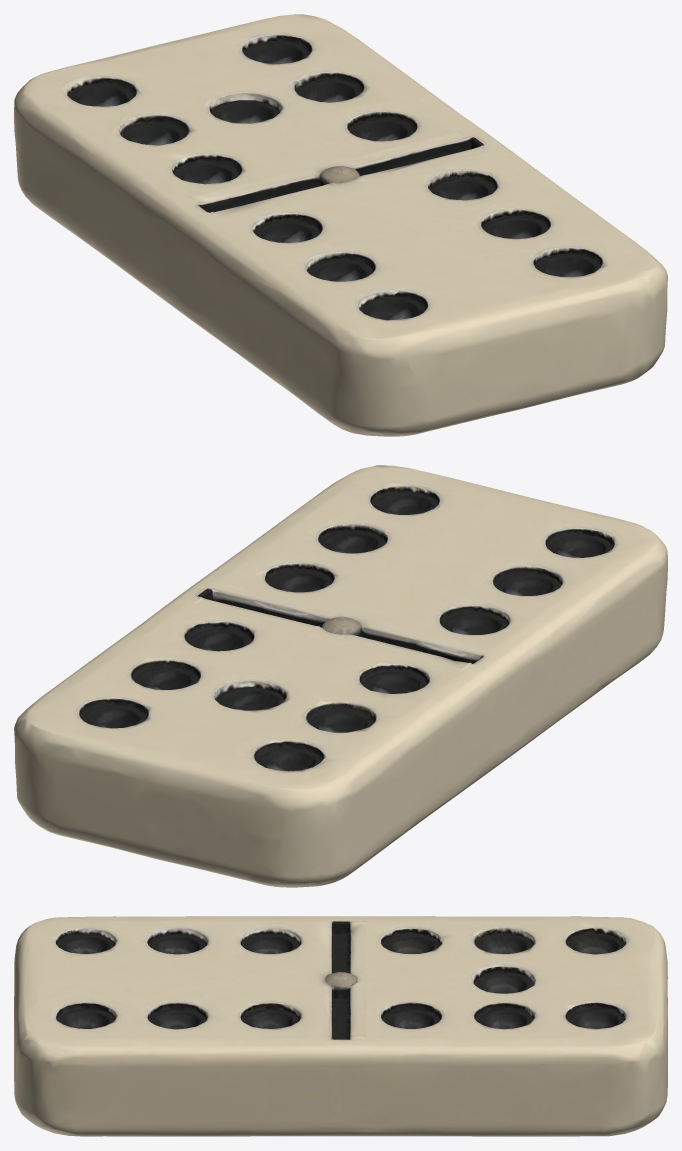
The model's file is 6-7-domino.glb.
The picture shows the model from 3 angles, top to bottom: view 1: azimuth 30°, elevation 25°; view 2: azimuth 150°, elevation 25°; view 3: azimuth 270°, elevation 25°; orthographic projection. The views are drawn at different scales.
Visible parts, largest first — view 1: tripo_node_88c8f088-3433-44e8-bcfc-4b2c3d524a9c; view 2: tripo_node_88c8f088-3433-44e8-bcfc-4b2c3d524a9c; view 3: tripo_node_88c8f088-3433-44e8-bcfc-4b2c3d524a9c.
Part boxes in pixels (bbox=[...]): tripo_node_88c8f088-3433-44e8-bcfc-4b2c3d524a9c: bbox=[14, 14, 667, 436]; tripo_node_88c8f088-3433-44e8-bcfc-4b2c3d524a9c: bbox=[14, 465, 667, 887]; tripo_node_88c8f088-3433-44e8-bcfc-4b2c3d524a9c: bbox=[14, 916, 667, 1136].
Bounding box in the file's own units: 0.4928 × 0.1641 × 0.9797.
1 material, 1 textured.
